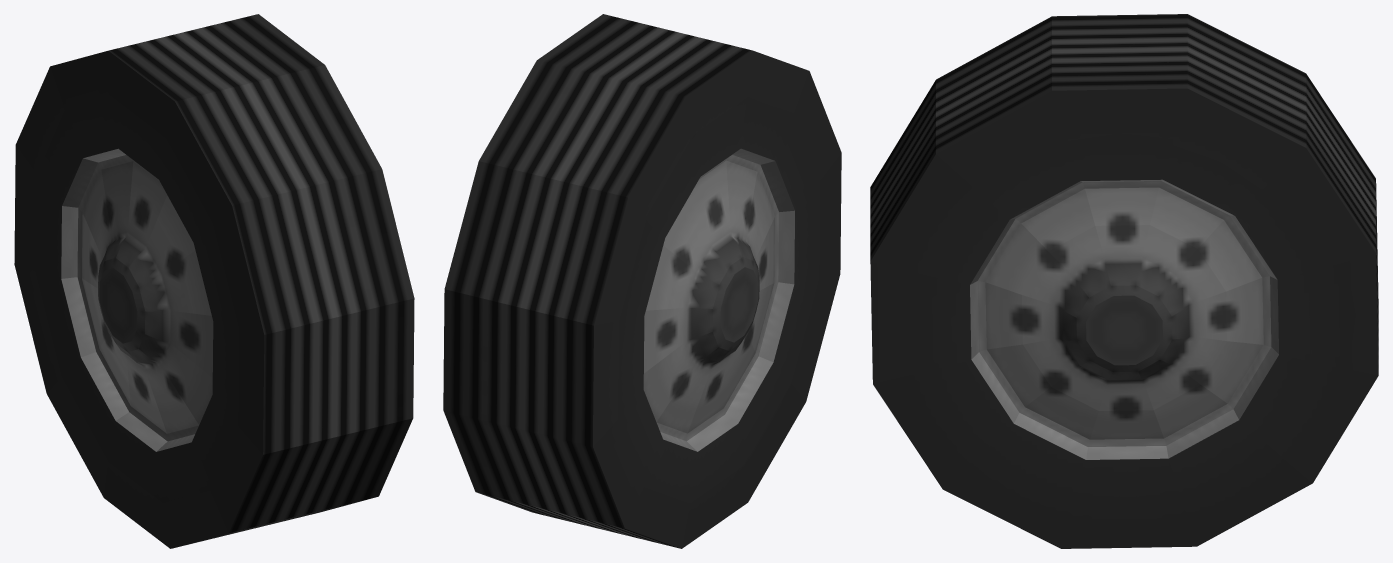
File: DuallyWheelFront.fbx
3 views of the same model, side by side, from view 1: azimuth 30°, elevation 25°; view 2: azimuth 150°, elevation 25°; view 3: azimuth 270°, elevation 25° (orthographic). The views are drawn at different scales.
Visible parts, largest first — view 1: GavrilFrontDuallyWheel; view 2: GavrilFrontDuallyWheel; view 3: GavrilFrontDuallyWheel.
Boxes of the visible parts, bbox=[...] form: GavrilFrontDuallyWheel: bbox=[14, 14, 414, 548]; GavrilFrontDuallyWheel: bbox=[443, 14, 841, 548]; GavrilFrontDuallyWheel: bbox=[870, 14, 1378, 548].
Bounding box in the file's own units: 0.4609 × 1.02 × 1.02.
